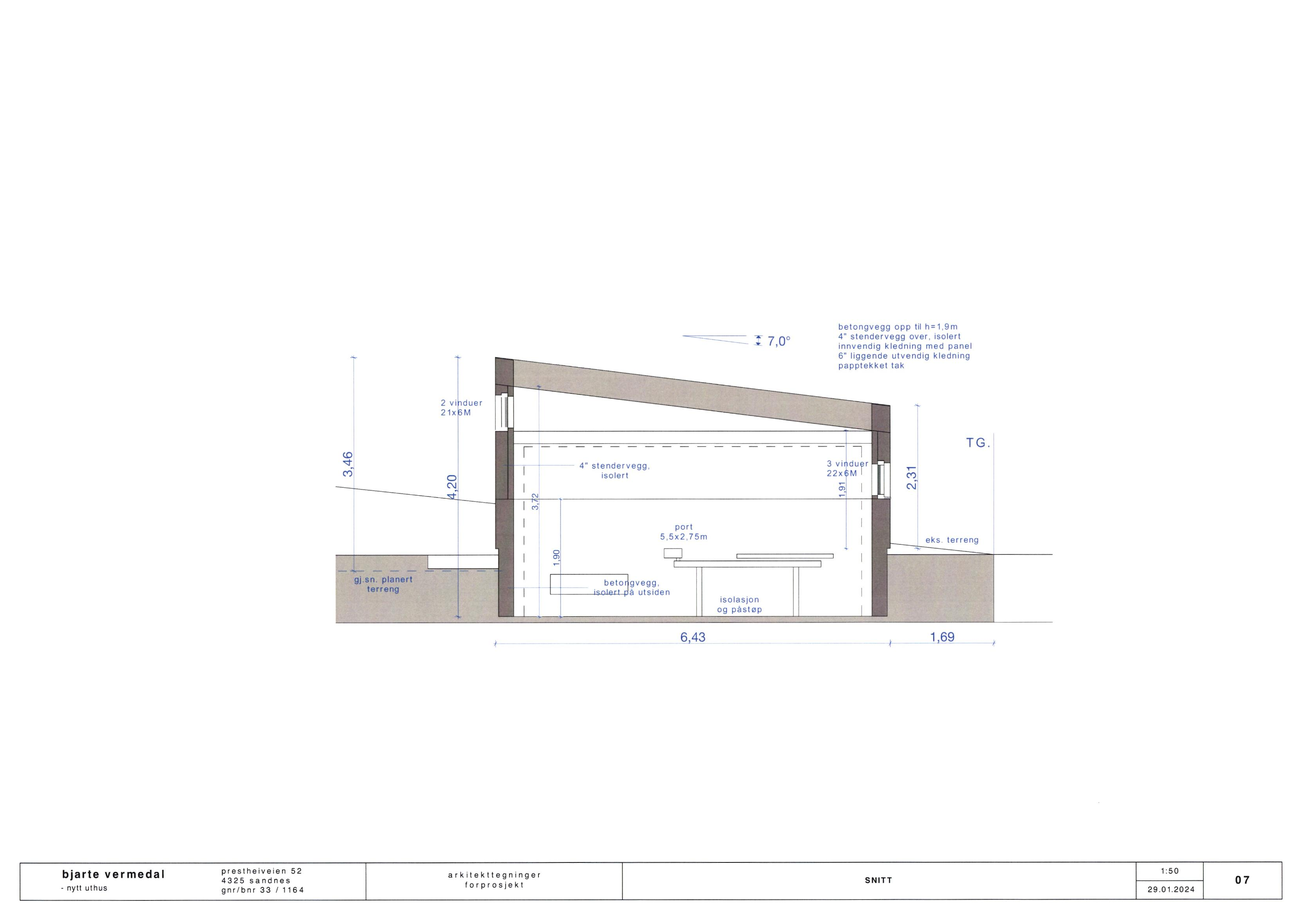snitt: (424, 355, 999, 628)
